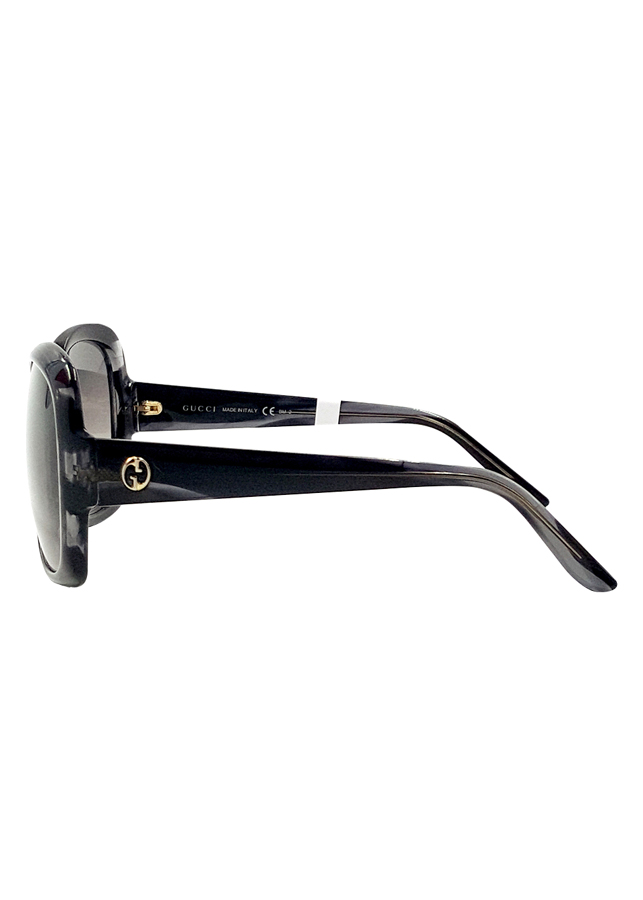Gucci: (112, 449, 165, 500), (179, 400, 218, 417)
